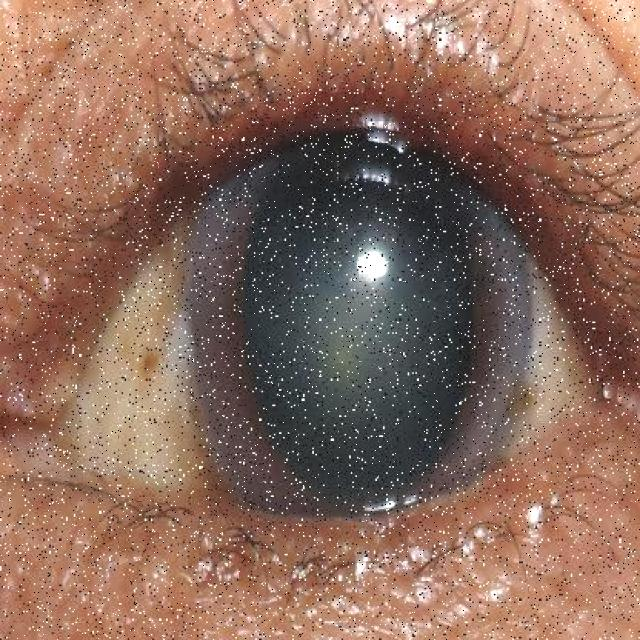Cataract: (148, 100, 566, 537)
